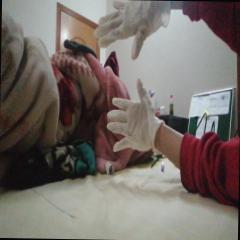gloved: (95, 0, 171, 60), (106, 78, 164, 152)
